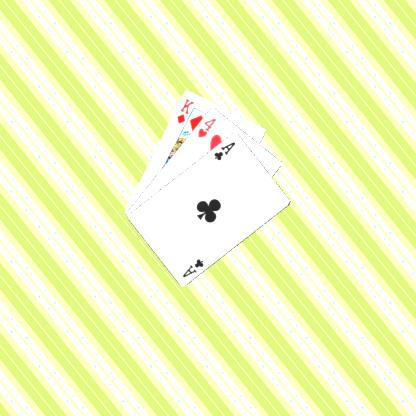4H: (195, 114, 218, 138)
AC: (211, 139, 237, 162), (179, 256, 205, 278)
KD: (174, 96, 195, 125)
